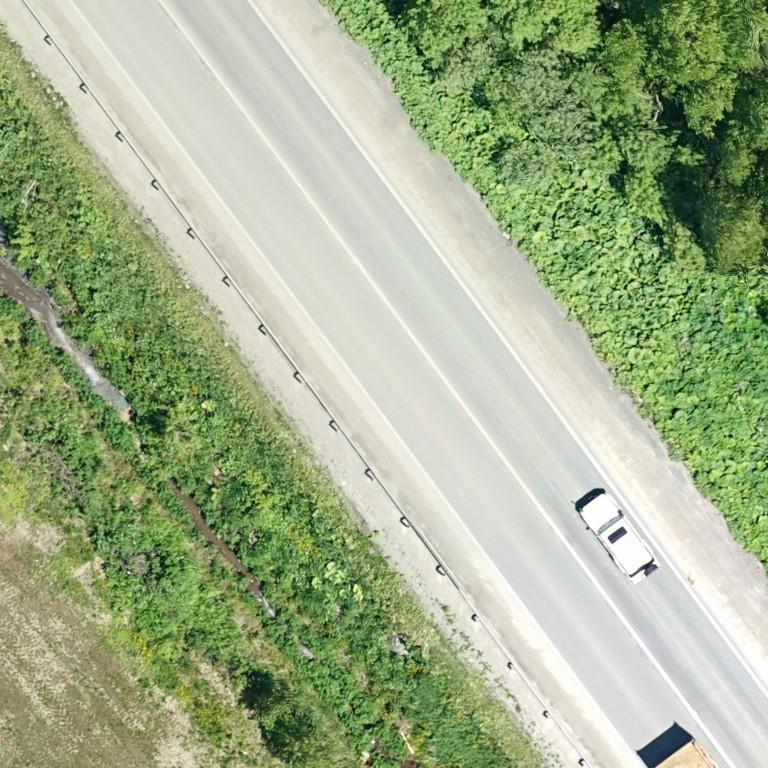hogweed: (688, 288, 767, 390), (660, 369, 709, 396)
